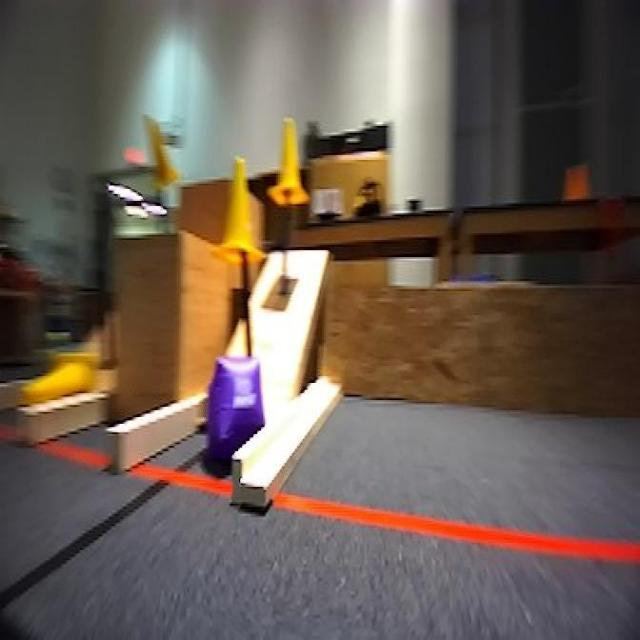frc_cone: (218, 157, 266, 266), (21, 347, 93, 412), (270, 119, 308, 208), (143, 112, 180, 194)
frc_cube: (208, 358, 268, 462)
